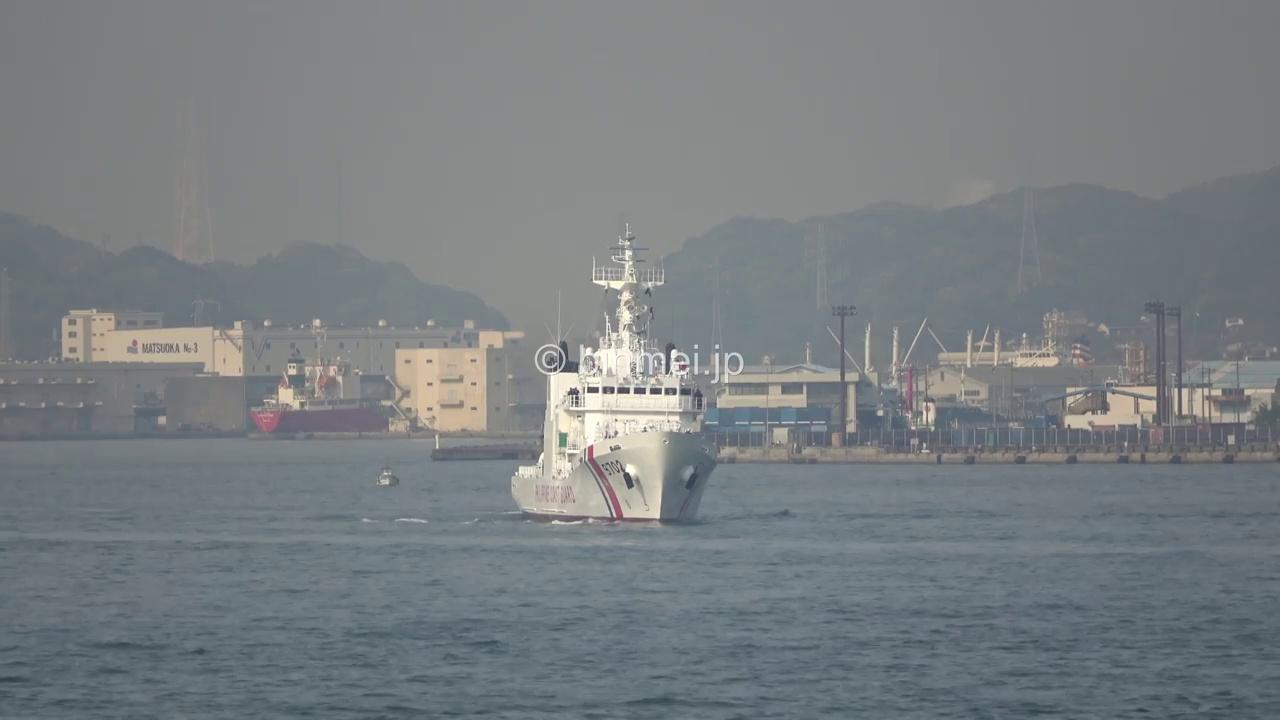Ship: (377, 469, 401, 490)
